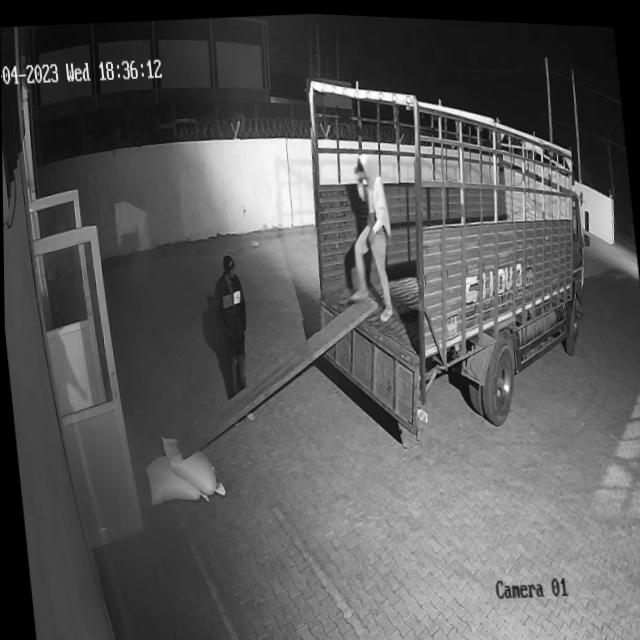sack: (158, 427, 224, 499), (142, 450, 205, 506)
